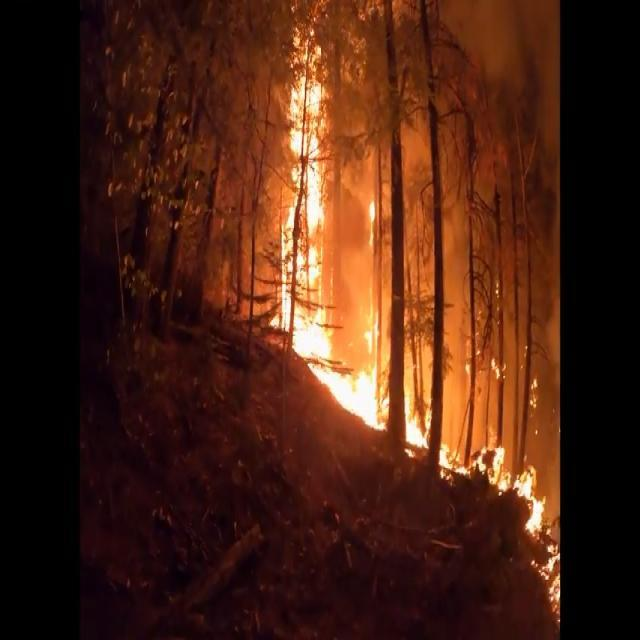Fire: (277, 0, 561, 613)
